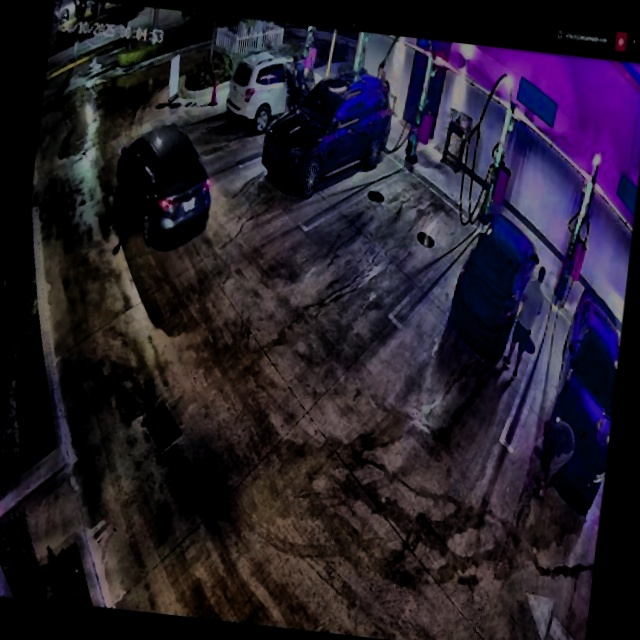Car: (259, 61, 393, 202), (448, 209, 542, 362), (109, 119, 219, 243)
